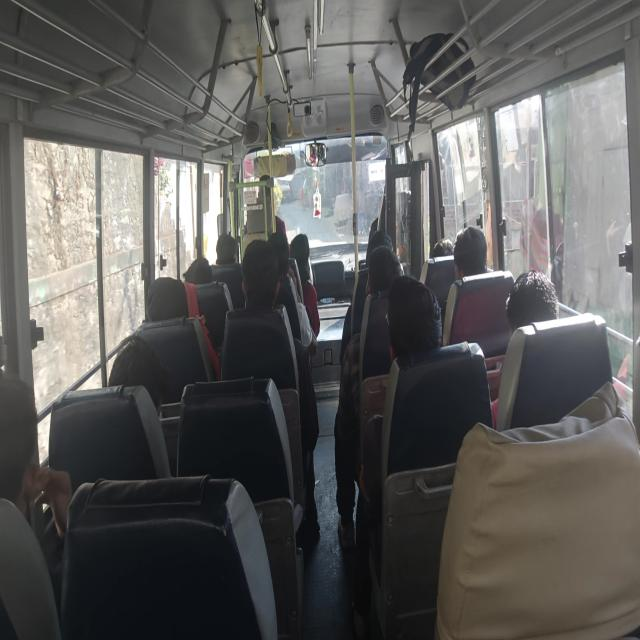person: (0, 367, 48, 514), (382, 272, 446, 360), (101, 336, 173, 410), (495, 267, 558, 340), (238, 235, 283, 322), (143, 272, 198, 330), (452, 221, 487, 292), (364, 242, 408, 298), (184, 246, 214, 296), (213, 220, 241, 272), (268, 226, 296, 268), (288, 228, 316, 268), (360, 221, 396, 252), (252, 172, 284, 205), (430, 234, 459, 266), (380, 180, 408, 209)
